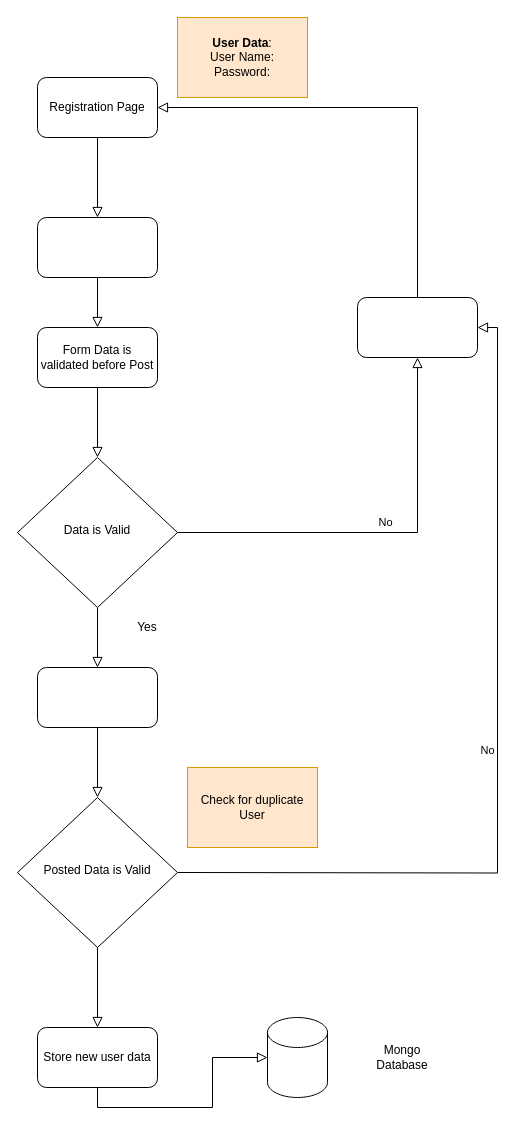
This 525x1135 diagram has some shape labels left out. The box of each missing label's shape, as (x1, y1, x2, y2) in pixels:
Post Data to Server: (36, 666, 158, 728)
Present Invalid Data: (356, 296, 478, 358)
User Click Submit: (36, 216, 158, 278)
